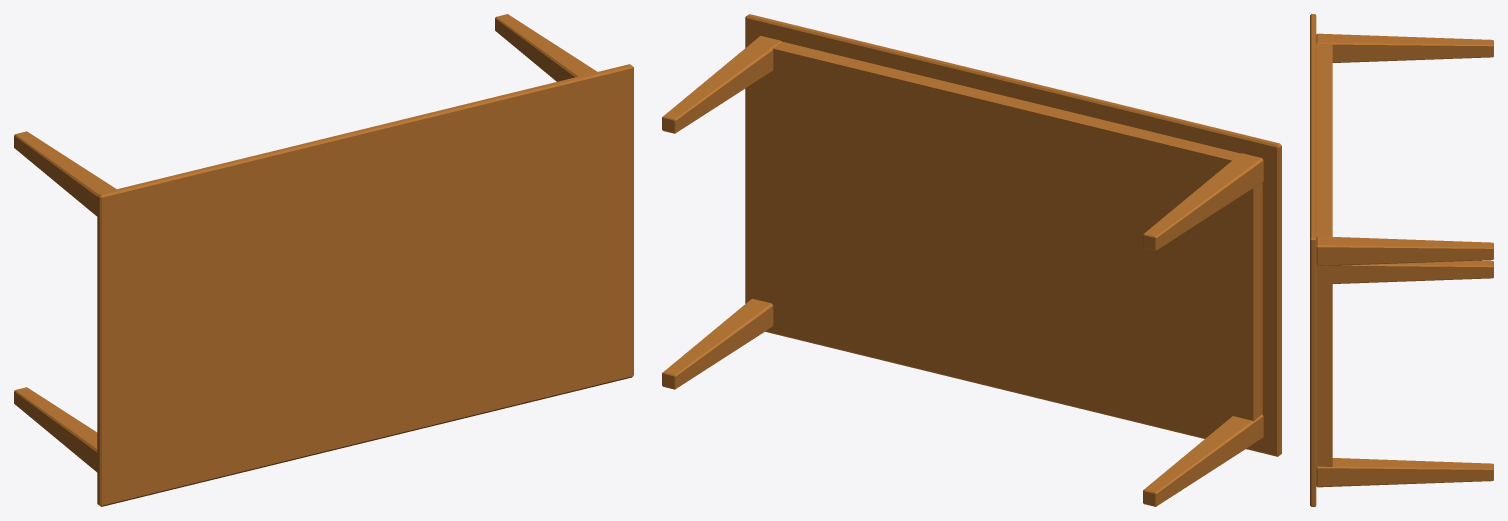
The model's file is TablemeshDiningTable_230_0.obj.
The picture shows the model from 3 angles, left to right: view 1: azimuth 30°, elevation 25°; view 2: azimuth 150°, elevation 25°; view 3: azimuth 270°, elevation 25°; orthographic projection. The views are drawn at different scales.
Parts seen in each view (by area): view 1: DiningTable_230; view 2: DiningTable_230; view 3: DiningTable_230.
Part boxes in pixels (box(x1,y1,x2,y2)): DiningTable_230: box(14, 14, 633, 506); DiningTable_230: box(662, 14, 1281, 506); DiningTable_230: box(1310, 14, 1493, 506).
Size of the model in its own units: 2.21 by 1.23 by 0.764.
